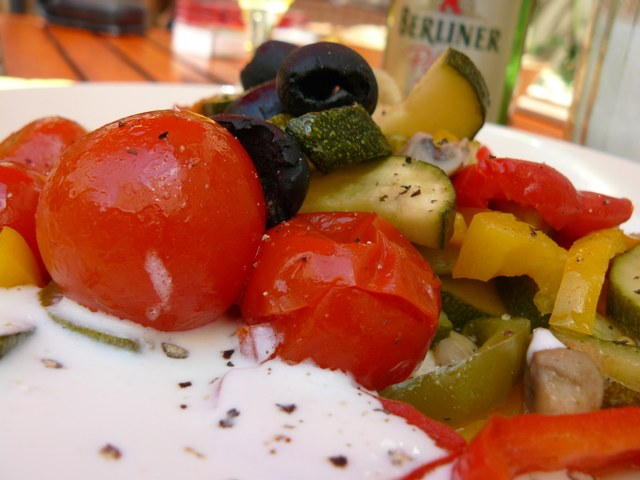tomato: (36, 109, 266, 333), (239, 211, 444, 388), (453, 147, 634, 250), (453, 405, 640, 480), (0, 161, 48, 284), (0, 117, 88, 176)
